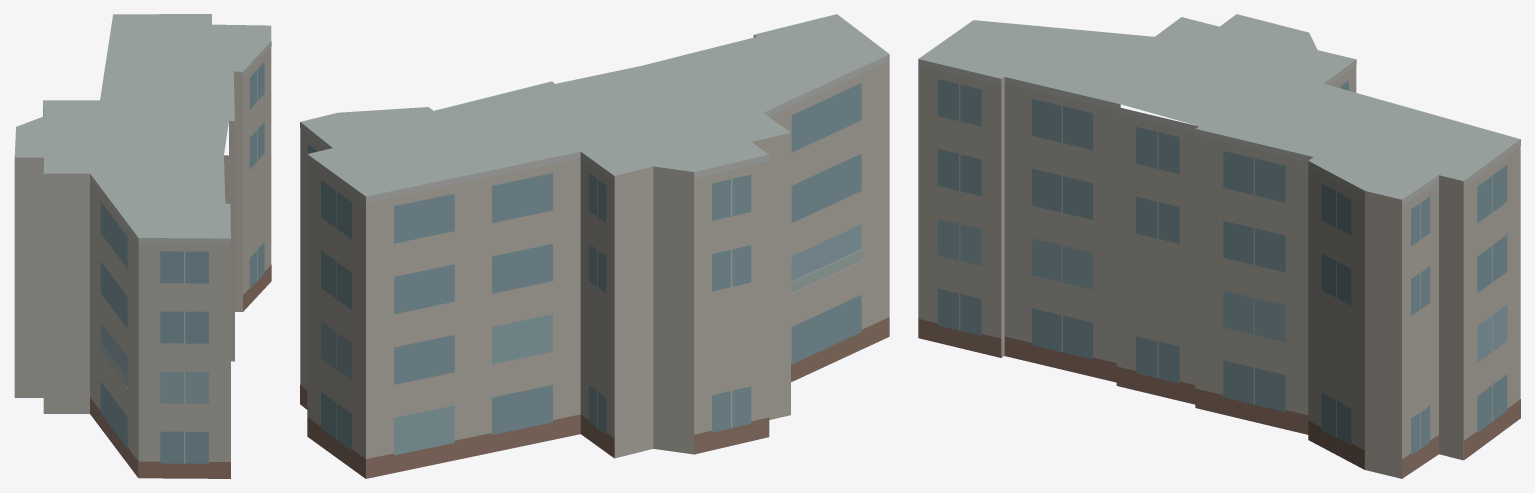
The model's file is survey-upis-32954464.glb.
3 views of the same model, side by side, from view 1: azimuth 30°, elevation 25°; view 2: azimuth 150°, elevation 25°; view 3: azimuth 270°, elevation 25° (orthographic). The views are drawn at different scales.
Visible parts, largest first — view 1: survey-upis-32954464.tmp; view 2: survey-upis-32954464.tmp; view 3: survey-upis-32954464.tmp.
Part boxes in pixels (x1,y1,x2,y2): survey-upis-32954464.tmp: (14,14,271,478); survey-upis-32954464.tmp: (300,14,889,478); survey-upis-32954464.tmp: (918,14,1520,478).
Bounding box in the file's own units: 15.28 × 10.7 × 20.94.
